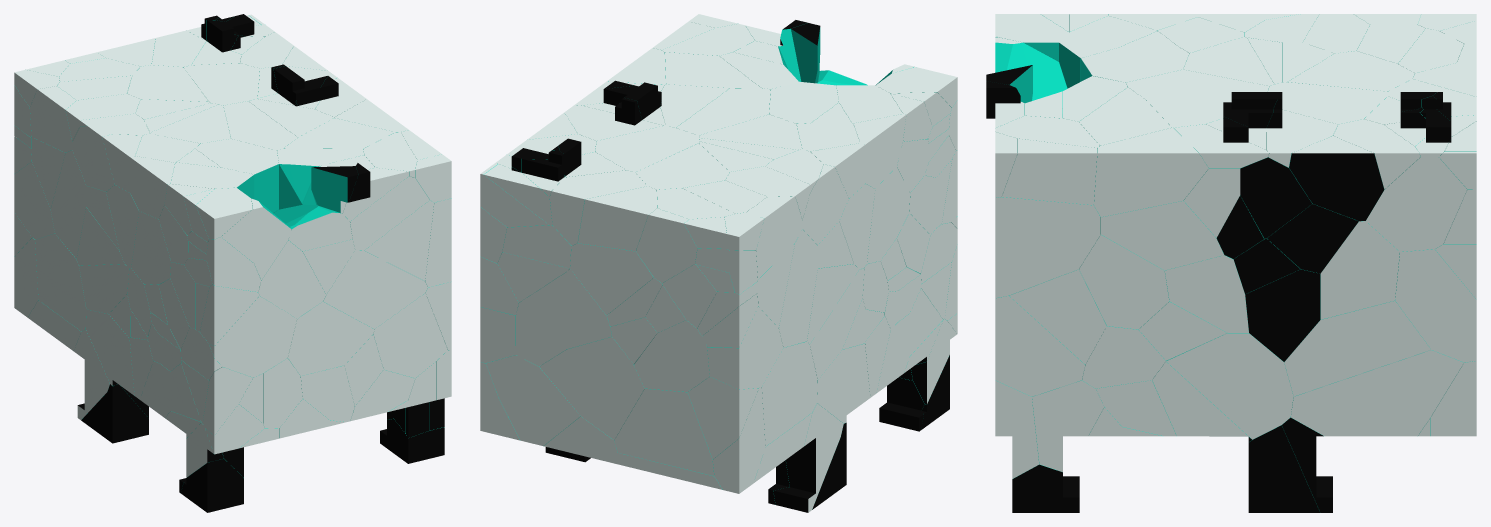
The model's file is panda_desmontado.fbx.
3 renders of one model, left to right at view 1: azimuth 30°, elevation 25°; view 2: azimuth 150°, elevation 25°; view 3: azimuth 270°, elevation 25°, orthographic. The views are drawn at different scales.
Visible parts, largest first — view 1: Dogo_cell.072, Dogo_cell.172, Dogo_cell.175, Dogo_cell.139, Dogo_cell.093, Dogo_cell.194, Dogo_cell.162, Dogo_cell.091, Dogo_cell.161, Dogo_cell.104, Dogo_cell.168, Dogo_cell.156 (+86 smaller); view 2: Dogo_cell.021, Dogo_cell.018, Dogo_cell.082, Dogo_cell.093, Dogo_cell.150, Dogo_cell.140, Dogo_cell.094, Dogo_cell.002, Dogo_cell.046, Dogo_cell.047, Dogo_cell.117, Dogo_cell.159 (+91 smaller); view 3: Dogo_cell.057, Dogo_cell.084, Dogo_cell.187, Dogo_cell.160, Dogo_cell.016, Dogo_cell.066, Dogo_cell.064, Dogo_cell.193, Dogo_cell.141, Dogo_cell.123, Dogo_cell.056, Dogo_cell.186 (+62 smaller).
Boxes of the visible parts, x1,y1,x2,y2 form: Dogo_cell.072: (323, 250, 427, 329); Dogo_cell.172: (209, 296, 296, 377); Dogo_cell.175: (288, 301, 374, 375); Dogo_cell.139: (373, 293, 447, 378); Dogo_cell.093: (35, 233, 86, 331); Dogo_cell.194: (258, 240, 325, 318); Dogo_cell.162: (195, 138, 278, 212); Dogo_cell.091: (364, 200, 433, 280); Dogo_cell.161: (350, 176, 429, 250); Dogo_cell.104: (277, 148, 363, 209); Dogo_cell.168: (50, 150, 86, 258); Dogo_cell.156: (273, 204, 352, 251); Dogo_cell.021: (539, 337, 644, 440); Dogo_cell.018: (614, 388, 714, 475); Dogo_cell.082: (486, 355, 580, 445); Dogo_cell.093: (761, 341, 817, 446); Dogo_cell.150: (634, 320, 709, 391); Dogo_cell.140: (578, 186, 657, 251); Dogo_cell.094: (570, 243, 653, 315); Dogo_cell.002: (773, 403, 843, 512); Dogo_cell.046: (515, 272, 566, 366); Dogo_cell.047: (707, 306, 783, 389); Dogo_cell.117: (687, 376, 758, 459); Dogo_cell.159: (549, 170, 647, 245); Dogo_cell.057: (1291, 350, 1463, 436); Dogo_cell.084: (995, 197, 1100, 298); Dogo_cell.187: (1166, 333, 1293, 439); Dogo_cell.160: (1284, 274, 1430, 396); Dogo_cell.016: (1094, 127, 1208, 217); Dogo_cell.066: (1395, 249, 1476, 362); Dogo_cell.064: (1366, 157, 1467, 251); Dogo_cell.193: (995, 295, 1084, 396); Dogo_cell.141: (1079, 217, 1169, 329); Dogo_cell.123: (1289, 136, 1384, 221); Dogo_cell.056: (1320, 221, 1399, 319); Dogo_cell.186: (1101, 200, 1224, 270).
Bounding box in the file's own units: 399 × 515 × 595.
